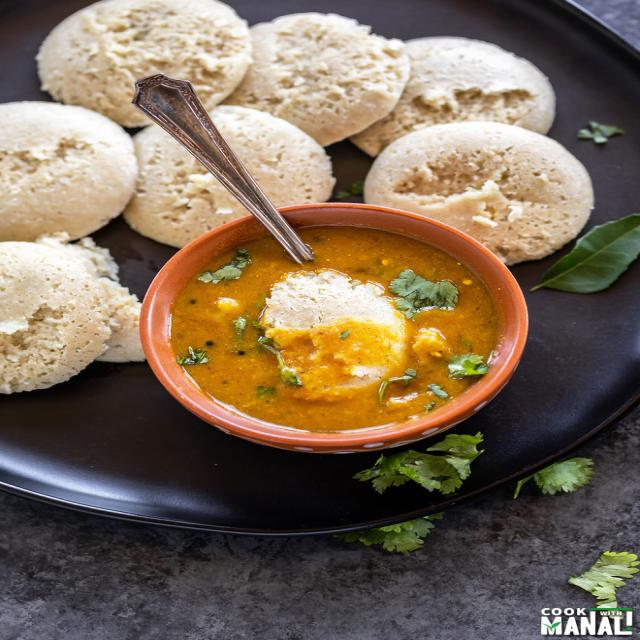Wet Waste: (354, 114, 603, 266), (114, 104, 329, 250), (342, 34, 564, 162), (32, 0, 251, 129), (217, 8, 413, 144), (253, 261, 418, 406), (0, 98, 134, 250), (0, 236, 121, 393)
